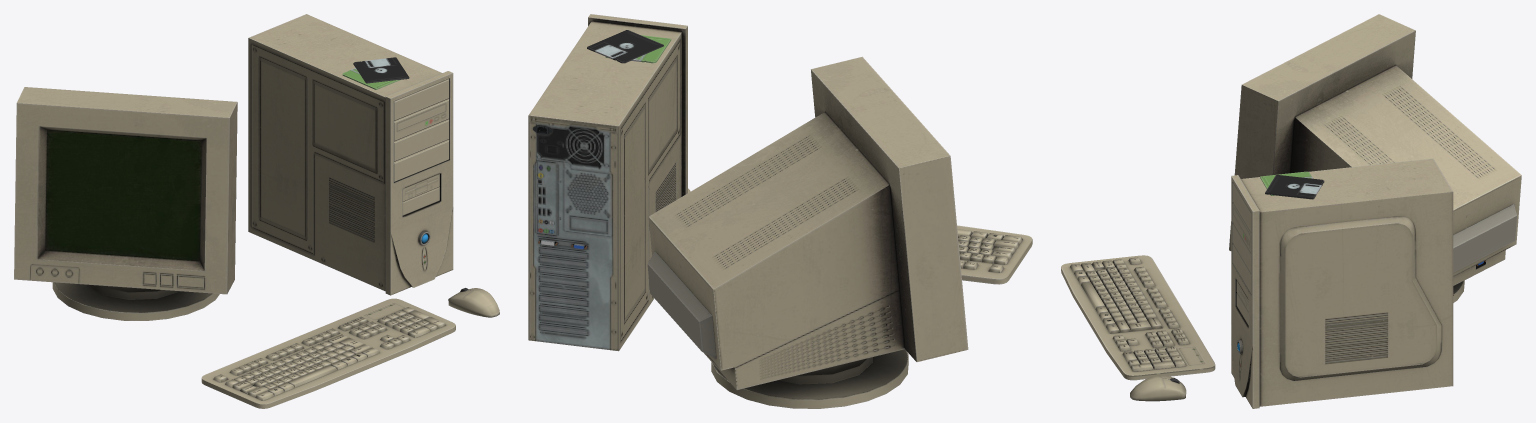
Rendered from computer.glb.
The picture shows the model from 3 angles, left to right: view 1: azimuth 30°, elevation 25°; view 2: azimuth 150°, elevation 25°; view 3: azimuth 270°, elevation 25°; orthographic projection. The views are drawn at different scales.
Parts seen in each view (by area): view 1: Monitor_OldPC_0; view 2: Monitor_OldPC_0; view 3: Monitor_OldPC_0.
Boxes of the visible parts, x1,y1,x2,y2 form: Monitor_OldPC_0: (14, 14, 499, 408); Monitor_OldPC_0: (528, 14, 1032, 408); Monitor_OldPC_0: (1061, 14, 1521, 408).
Bounding box in the file's own units: 1.86 × 0.9935 × 1.94.
Materials: 2 (2 with a texture image).
